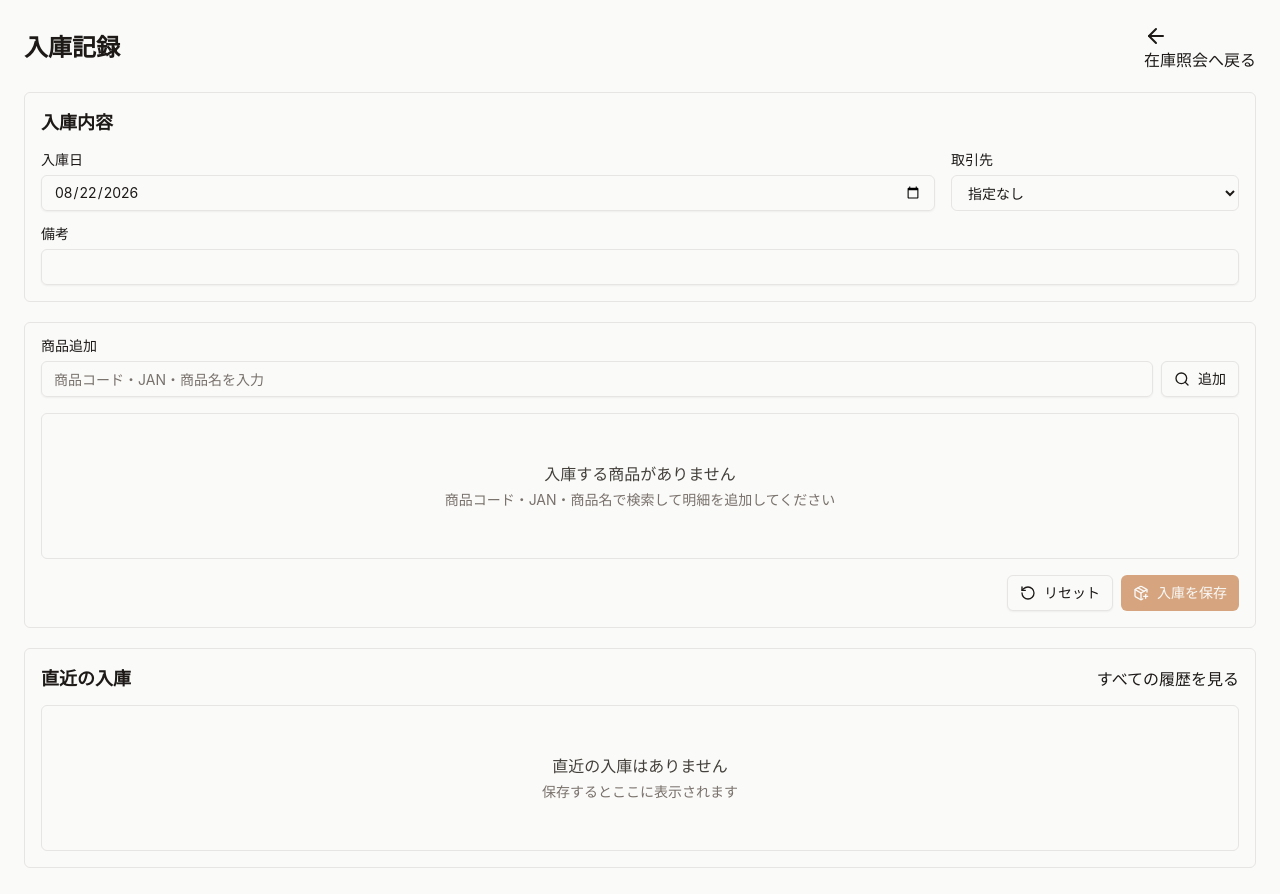
Test: ReceivingPage (UI-02 / REQ-201) › submit pending disables editing and hides back navigation action
The image size is (1280, 894).
Type "P-001" into the dropdown named "入庫商品検索" at (597,379), box x1=41 y1=361 x2=1153 y2=397
Then press Enter
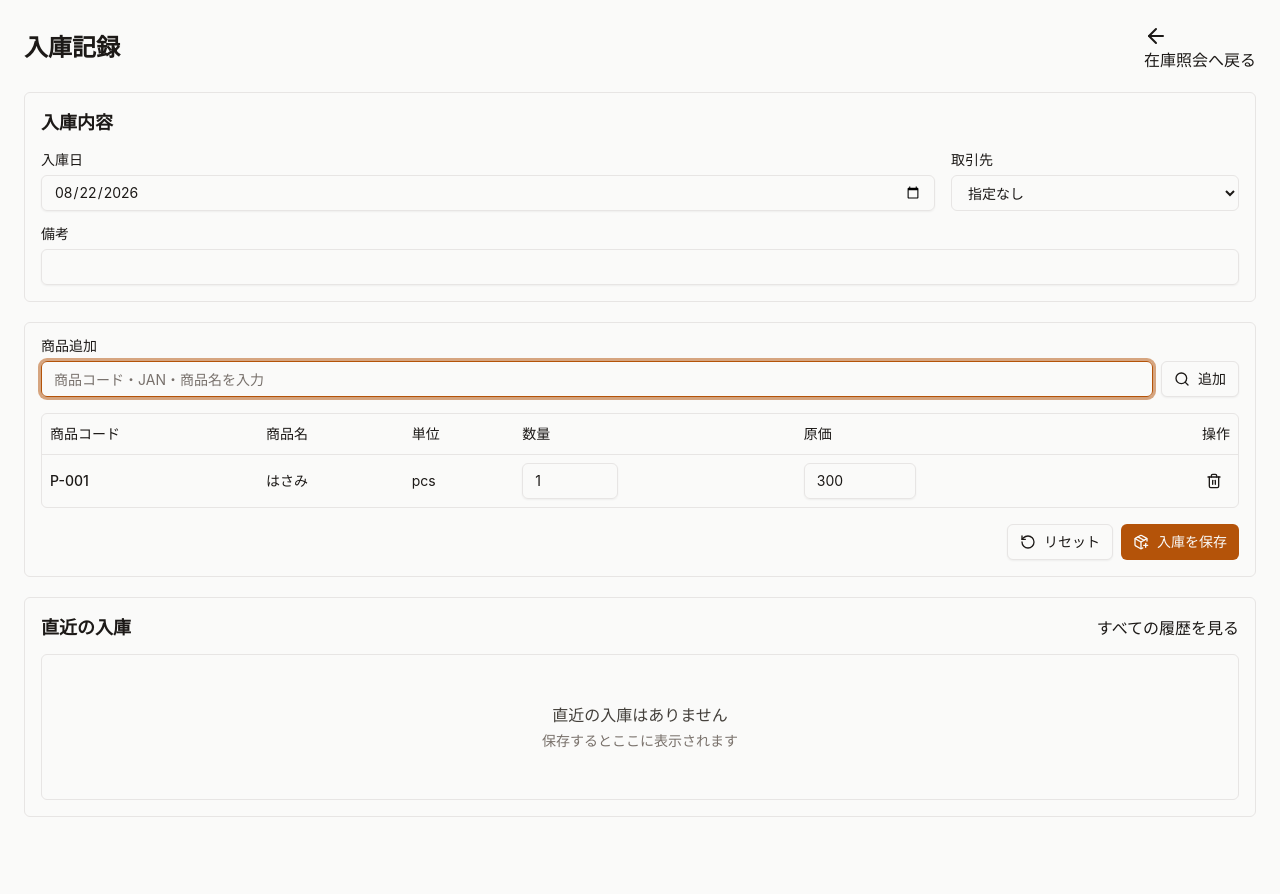
Check: the text "P-001" is shown, box x1=42 y1=454 x2=258 y2=506
Type "P" into the dropdown named "入庫商品検索" at (597,379), box x1=41 y1=361 x2=1153 y2=397
Then press Enter
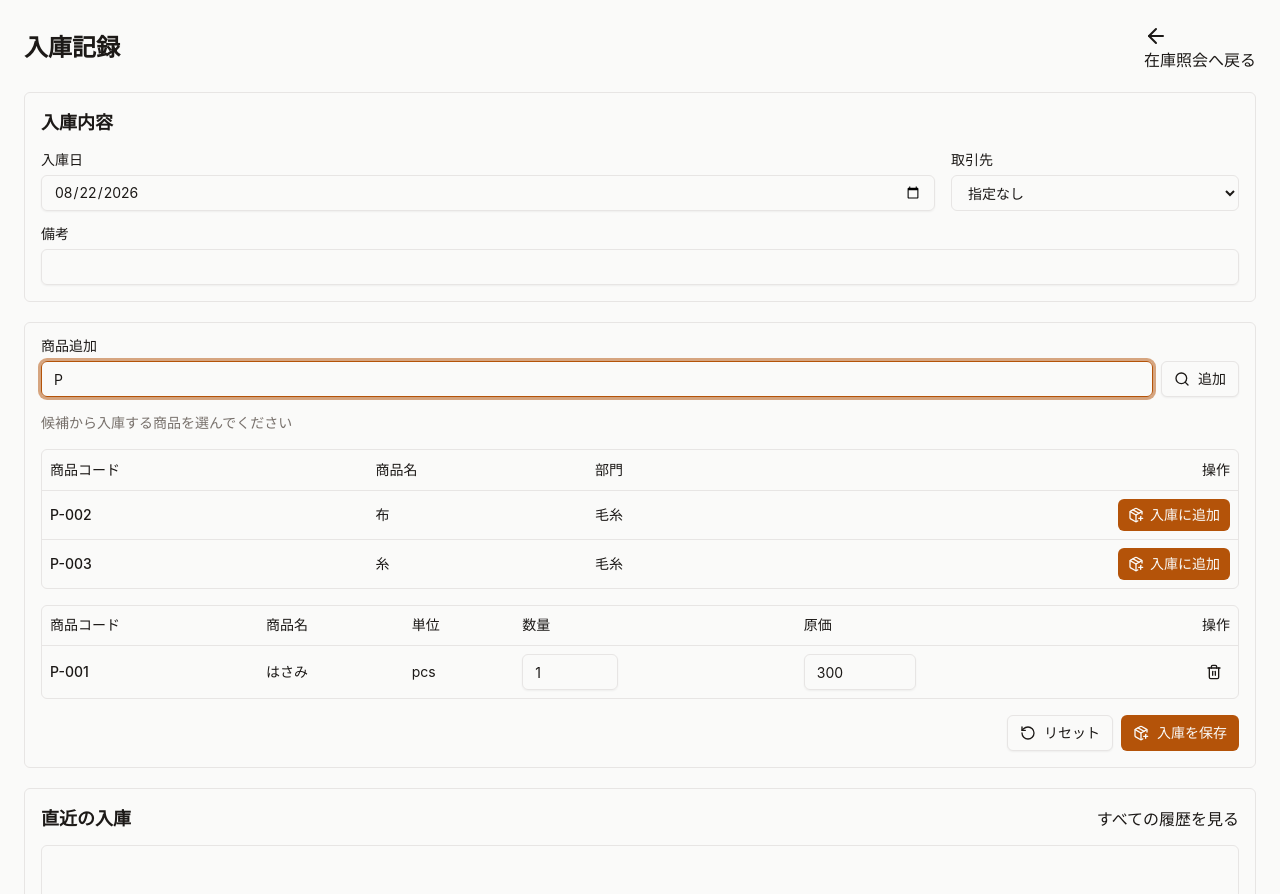
Check: the text "候補から入庫する商品を選んでください" is shown, box x1=41 y1=413 x2=292 y2=433
Click the button "入庫を保存" at (1180,733), box x1=1121 y1=715 x2=1239 y2=751
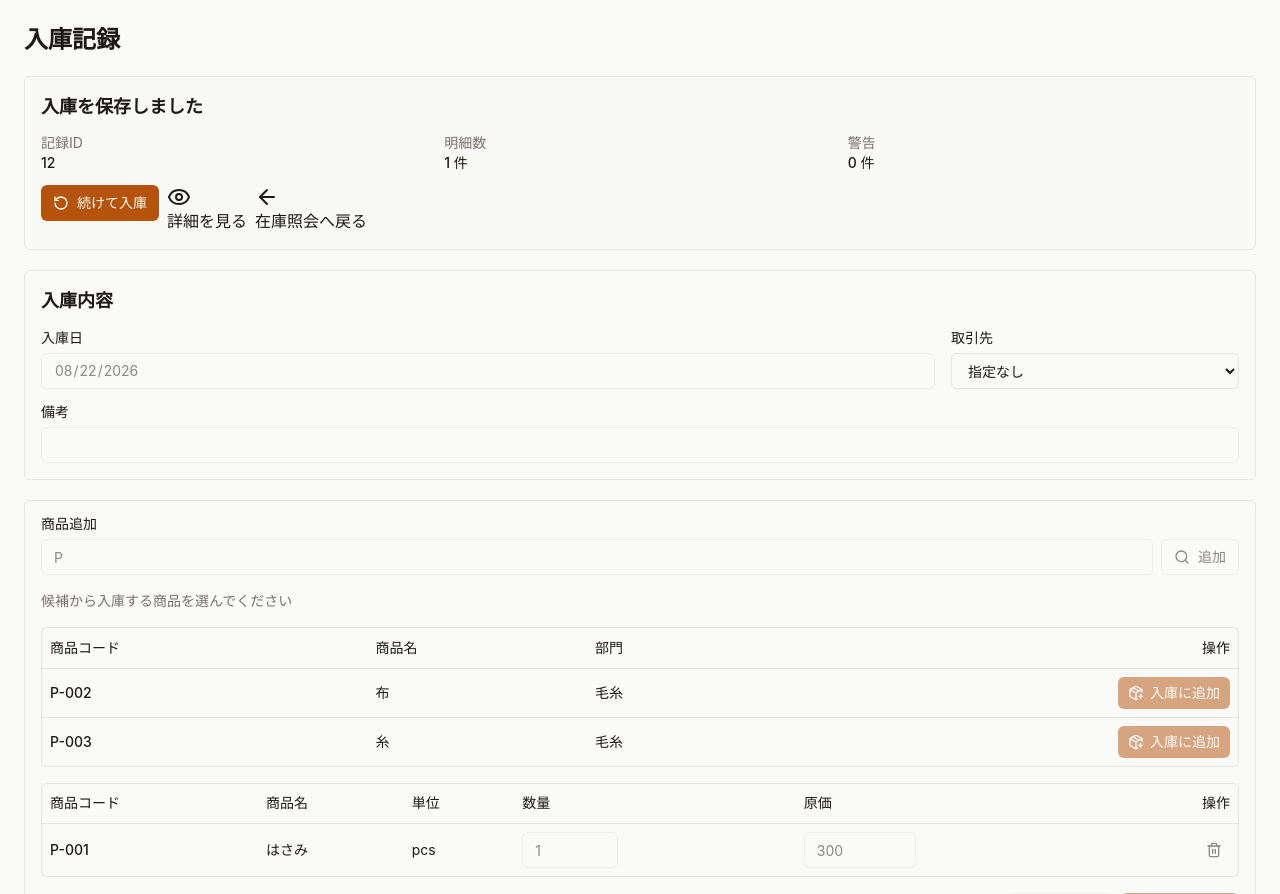
Check: the number field named "P-001 の数量" is disabled, box x1=522 y1=832 x2=618 y2=868
Check: the button "入庫に追加" in the row of "P-002" is disabled, box x1=1118 y1=676 x2=1230 y2=708
Check: the button "入庫に追加" in the row of "P-003" is disabled, box x1=1118 y1=726 x2=1230 y2=758
